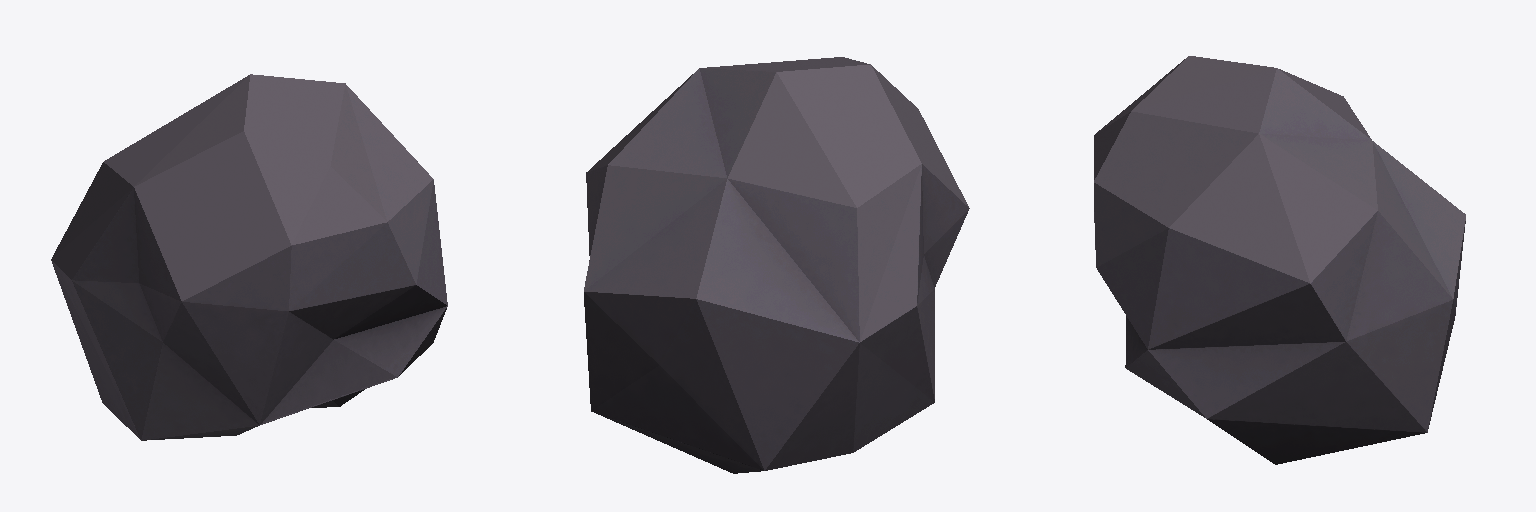
The picture shows the model from 3 angles: view 1: azimuth 30°, elevation 25°; view 2: azimuth 150°, elevation 25°; view 3: azimuth 270°, elevation 25°; orthographic projection.
Parts seen in each view (by area): view 1: Plane001; view 2: Plane001; view 3: Plane001.
Boxes of the visible parts, <box> form: Plane001: <box>51,74,447,440</box>; Plane001: <box>584,57,969,473</box>; Plane001: <box>1094,56,1465,464</box>.
Bounding box in the file's own units: 64.58 × 68.35 × 62.56.
1 materials, 1 textured.